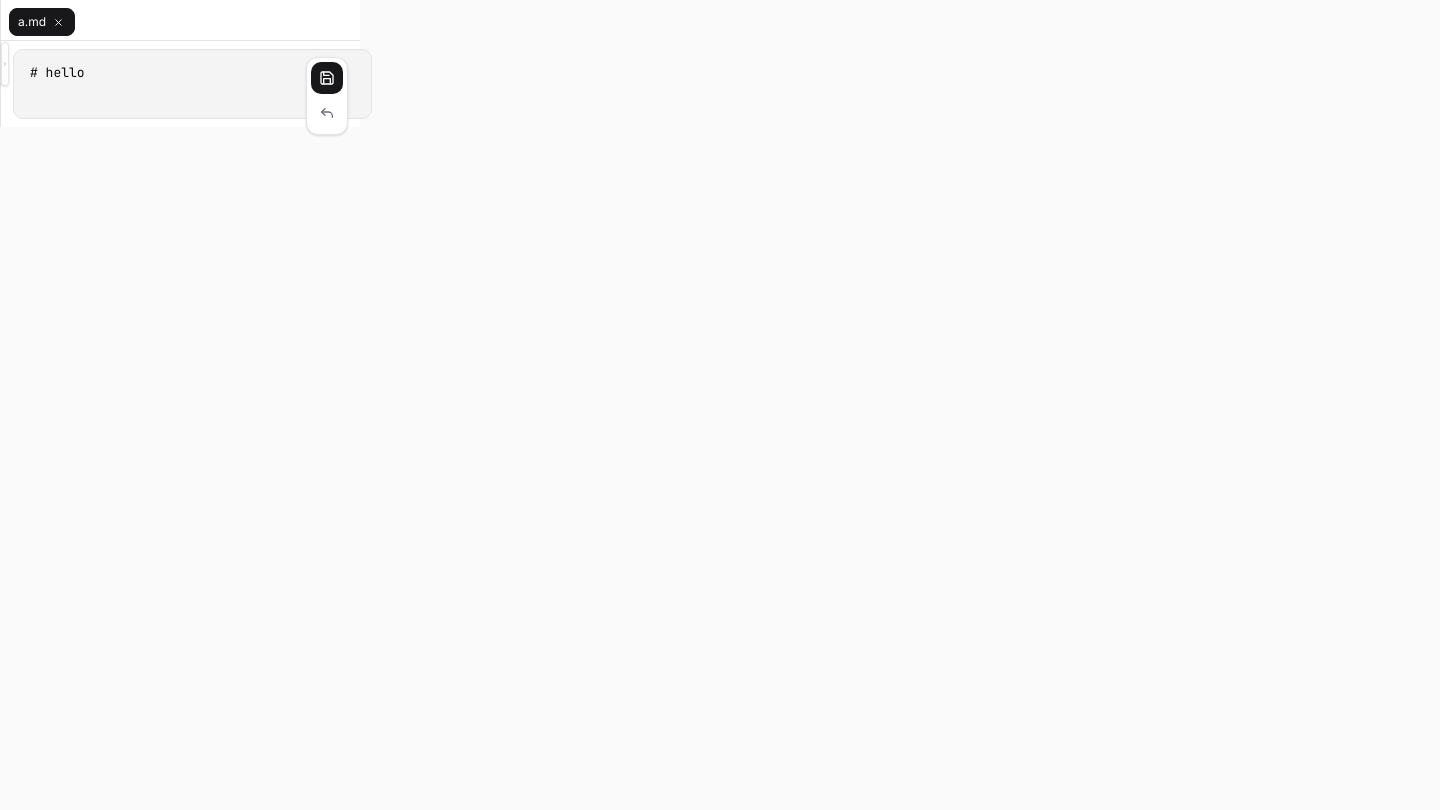
[老板第三批③] 收起/展开 › 编辑态点收起 → 弹守卫 dirty modal
Click the button with test id "pv-door-right".
click(5, 64)  # box [1,42,9,86]
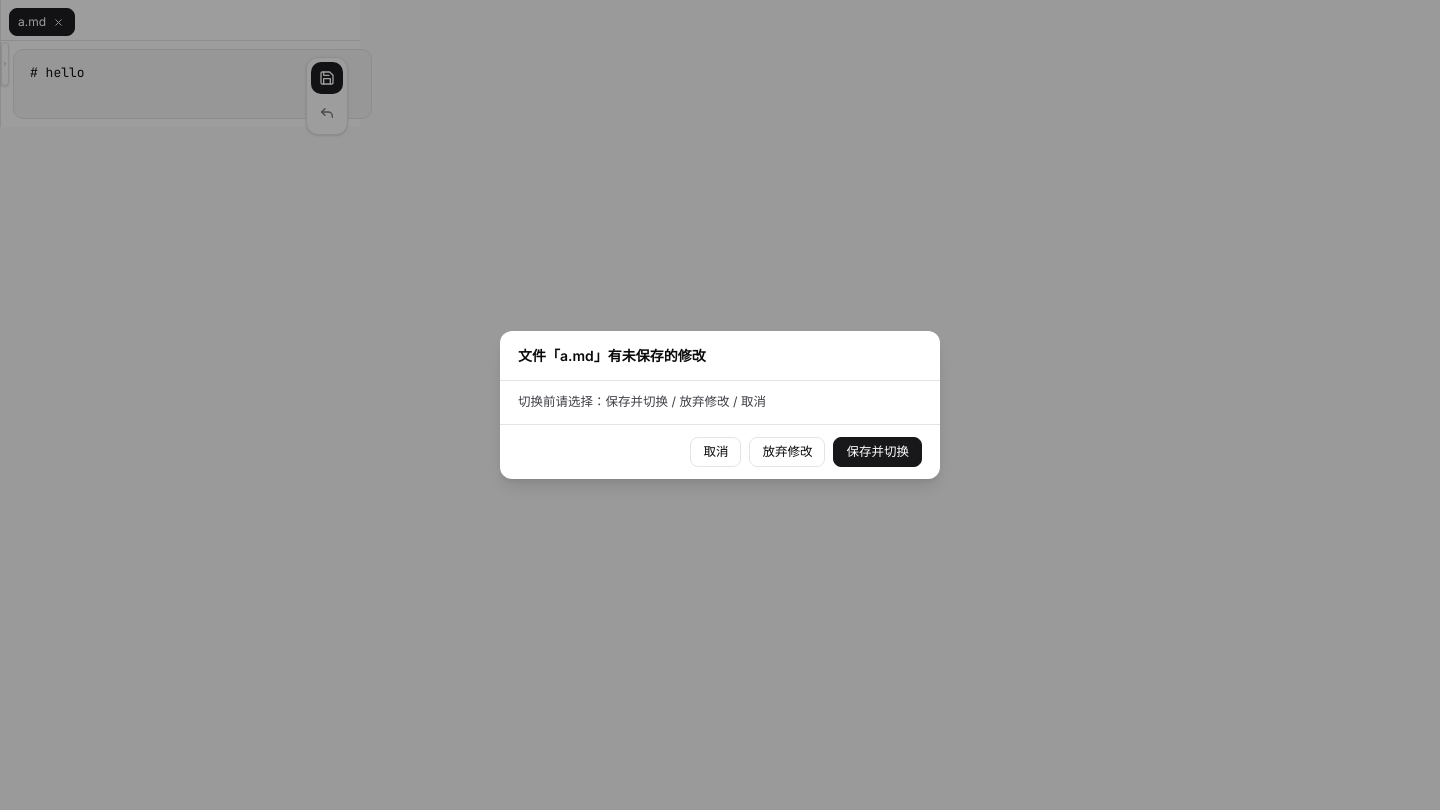
expect the element with test id "pv-panel" is shown: met, box [0,0,360,127]
expect the element with test id "pv-dirty-modal" is shown: met
